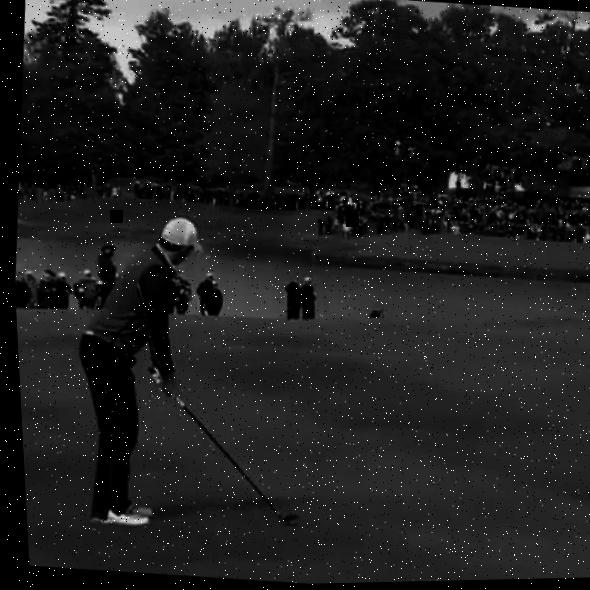ClubHead: (275, 515, 295, 526)
